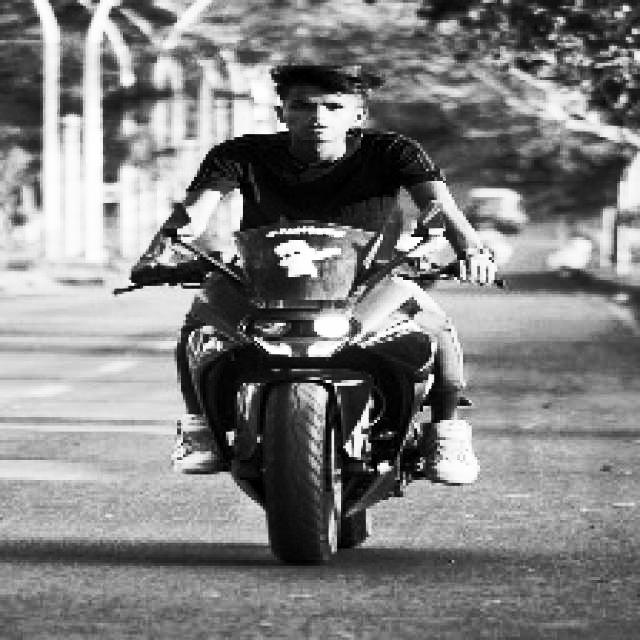Bike: (157, 222, 457, 554)
